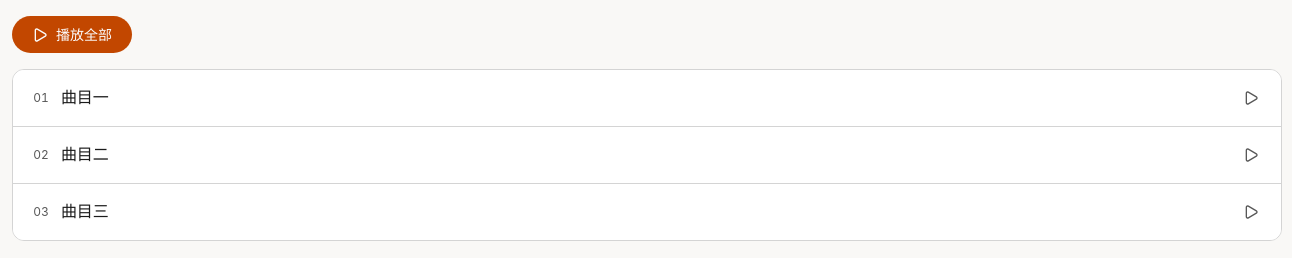
Test: AlbumTrackList 交互 › 点击「播放全部」从第一首起播，按钮文案切为「暂停」
This screenshot has width=1292, height=258.
Click the button "播放全部". click: (72, 34)
box: [12,16,132,53]
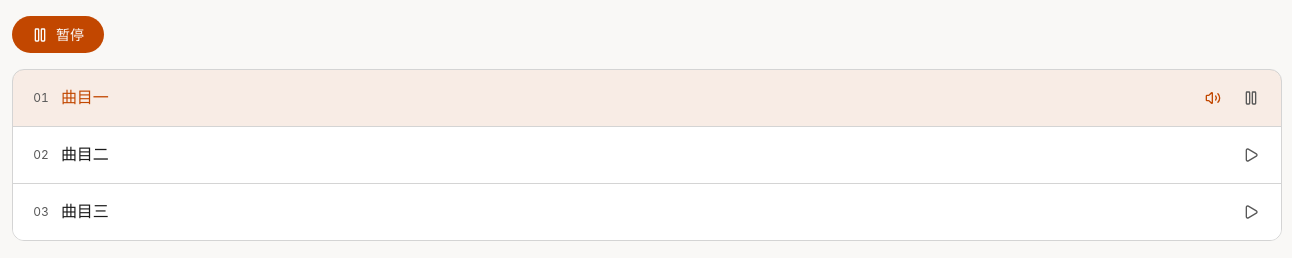
Expected: the button with aria-label "暂停专辑" is shown
Click the button with aria-label "暂停专辑". click: (58, 34)
box: [12,16,104,53]
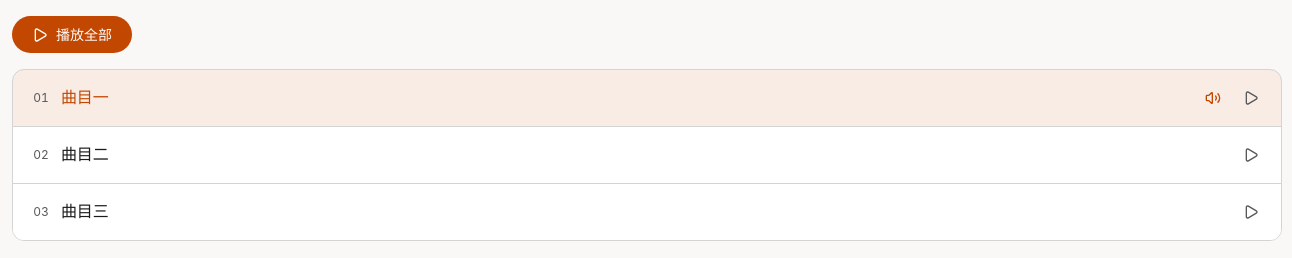
Expected: the button "播放全部" is shown, [12,16,132,53]
